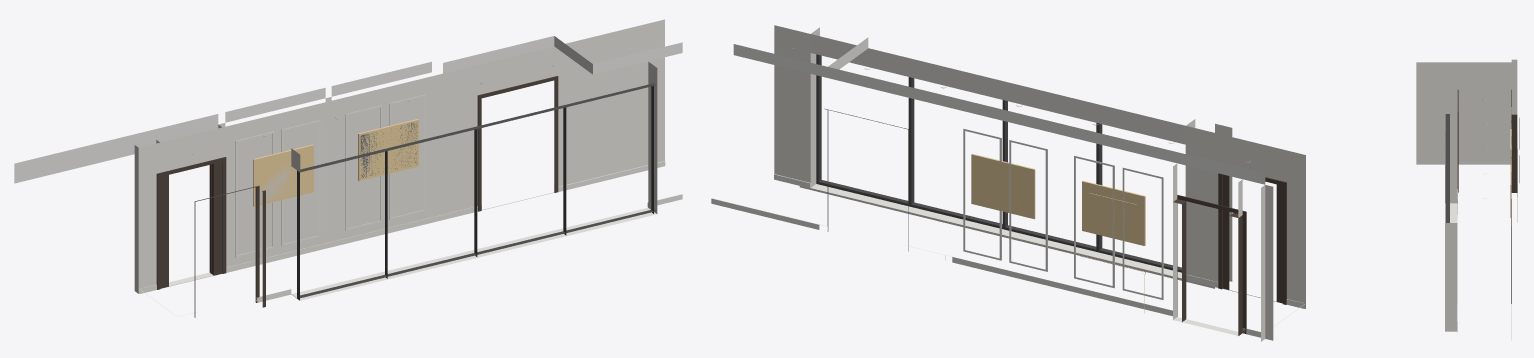
File: CORR.glb
3 renders of one model, left to right at view 1: azimuth 30°, elevation 25°; view 2: azimuth 150°, elevation 25°; view 3: azimuth 270°, elevation 25°, orthographic. The views are drawn at different scales.
Parts seen in each view (by area): view 1: WEB_CORR; view 2: WEB_CORR; view 3: WEB_CORR.
Boxes of the visible parts, x1=… form: WEB_CORR: x1=14, y1=19, x2=682, y2=317; WEB_CORR: x1=711, y1=25, x2=1305, y2=341; WEB_CORR: x1=1416, y1=59, x2=1519, y2=340.
Bounding box in the file's own units: 12.93 × 3.2 × 2.55.
